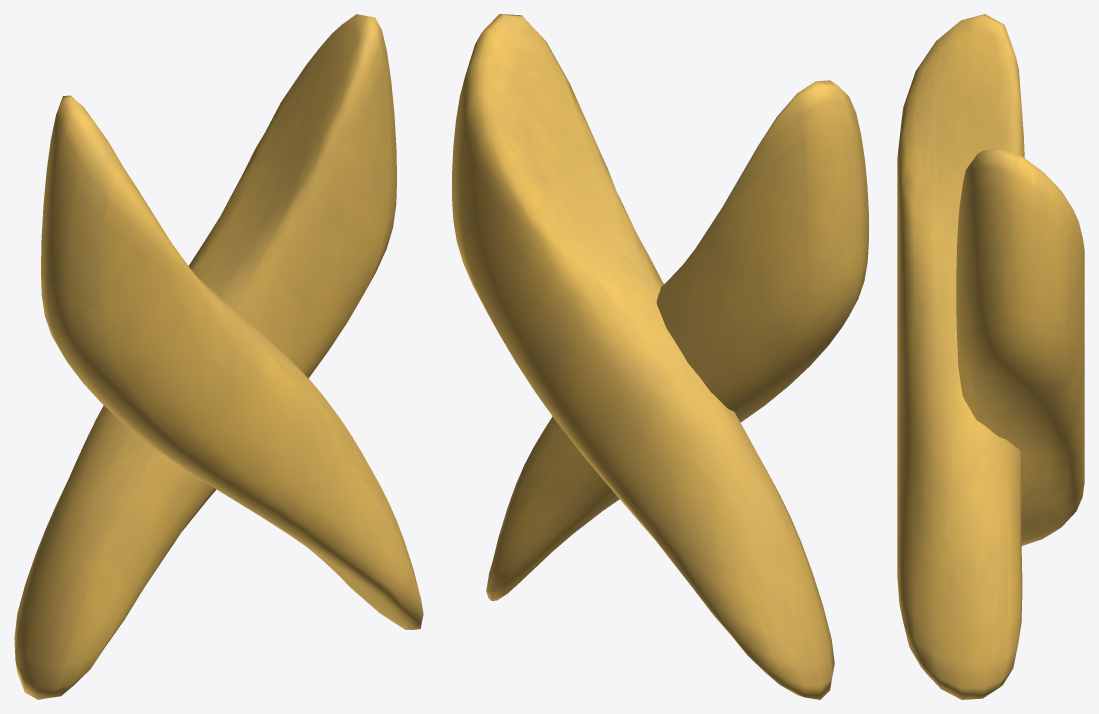
Rendered from simbolo.fbx.
3 renders of one model, left to right at view 1: azimuth 30°, elevation 25°; view 2: azimuth 150°, elevation 25°; view 3: azimuth 270°, elevation 25°, orthographic. The views are drawn at different scales.
Visible parts, largest first — view 1: Simbolo; view 2: Simbolo; view 3: Simbolo.
Part boxes in pixels (left/top/right/bottom): Simbolo: left=14, top=14, right=423, bottom=699; Simbolo: left=452, top=14, right=868, bottom=699; Simbolo: left=897, top=14, right=1084, bottom=699.
Size of the model in its own units: 61.88 by 95.26 by 29.98.
